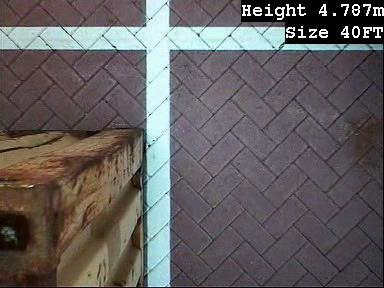groundmarker_2: (118, 18, 229, 90)
